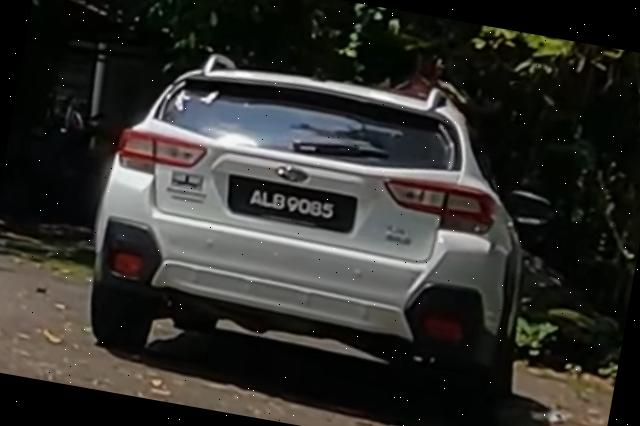License_Plate: (224, 173, 361, 235)
car: (71, 32, 581, 426)
